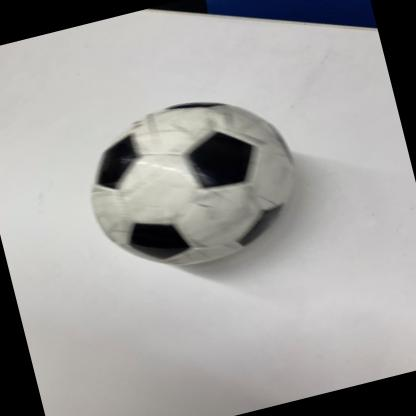ball: (75, 80, 314, 287)
